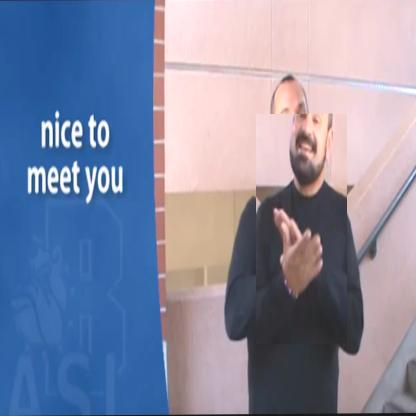NiceToMeetYou: (256, 114, 347, 345)
